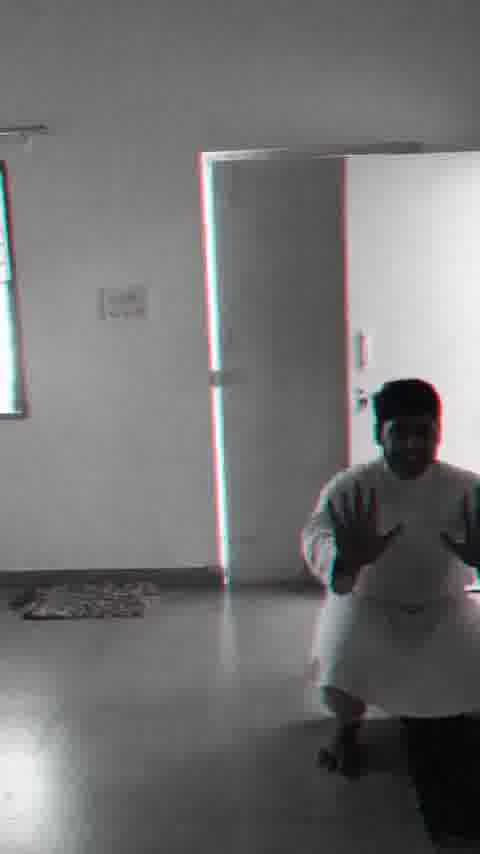duck: (302, 379, 480, 776)
